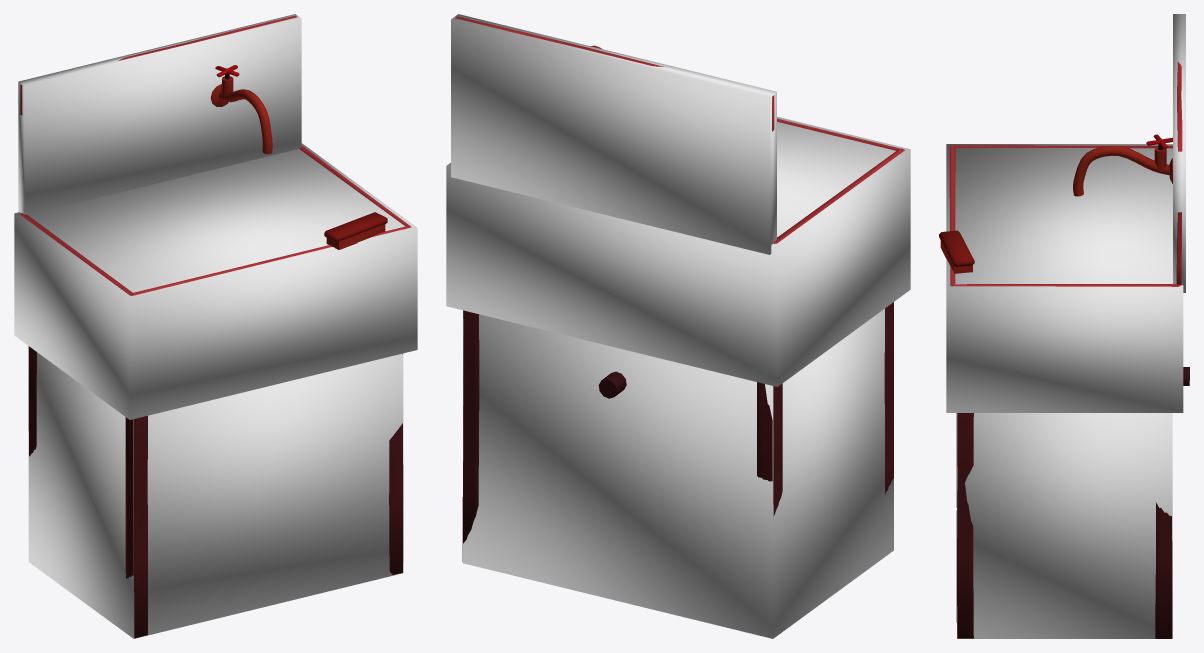
The model's file is pila_descontaminacion.glb.
3 renders of one model, left to right at view 1: azimuth 30°, elevation 25°; view 2: azimuth 150°, elevation 25°; view 3: azimuth 270°, elevation 25°, orthographic. The views are drawn at different scales.
Parts seen in each view (by area): view 1: pila_cubeta-colcaja, pila_patas-colcaja, pila_frontal-colcaja, pila; view 2: pila_patas-colcaja, pila_cubeta-colcaja, pila_frontal-colcaja, pila; view 3: pila_cubeta-colcaja, pila_patas-colcaja, pila, pila_frontal-colcaja.
Boxes of the visible parts, x1,y1,x2,y2 form: pila_cubeta-colcaja: (14, 143, 417, 419); pila_patas-colcaja: (28, 352, 403, 638); pila_frontal-colcaja: (18, 14, 301, 214); pila: (20, 15, 411, 638); pila_patas-colcaja: (463, 308, 893, 638); pila_cubeta-colcaja: (446, 116, 910, 386); pila_frontal-colcaja: (451, 14, 776, 254); pila: (455, 16, 904, 561); pila_cubeta-colcaja: (946, 144, 1183, 412); pila_patas-colcaja: (957, 413, 1172, 638); pila: (939, 62, 1189, 638); pila_frontal-colcaja: (1173, 14, 1185, 292).
Size of the model in its own units: 0.79 by 1.25 by 0.5822.
